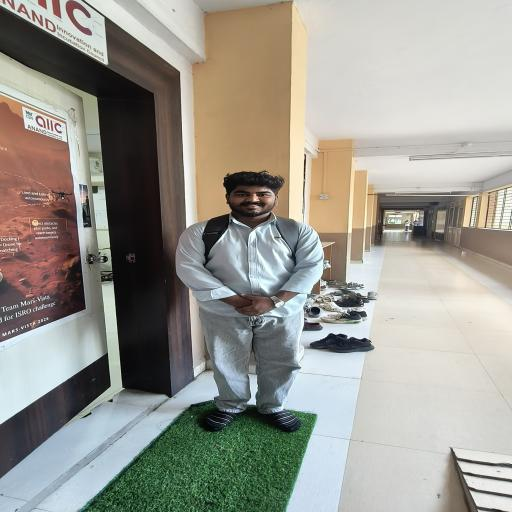survivor: (174, 170, 325, 434), (404, 220, 413, 231)
